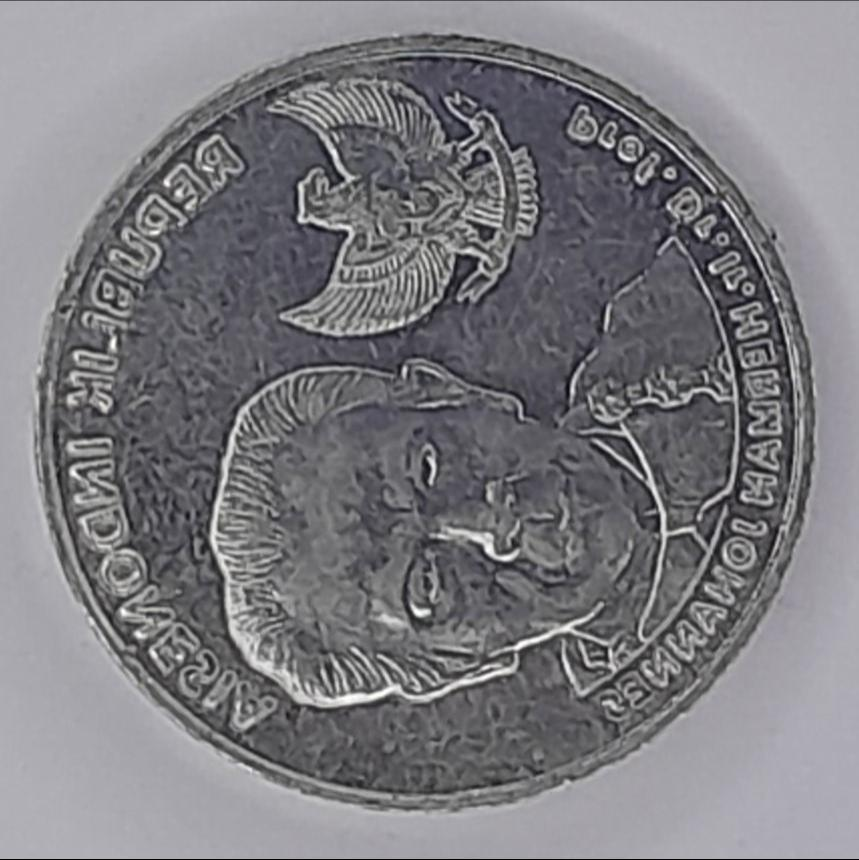coin_100_e2016: (27, 27, 822, 818)
